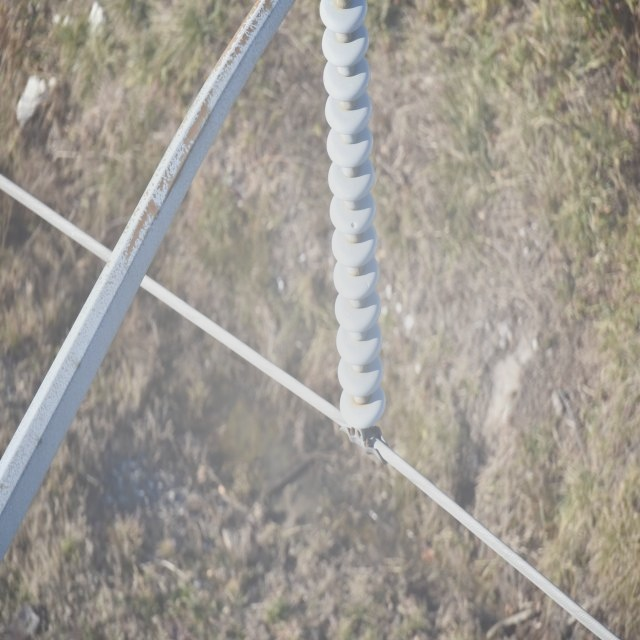broken: (349, 217, 358, 230)
insulator: (317, 0, 388, 430)
